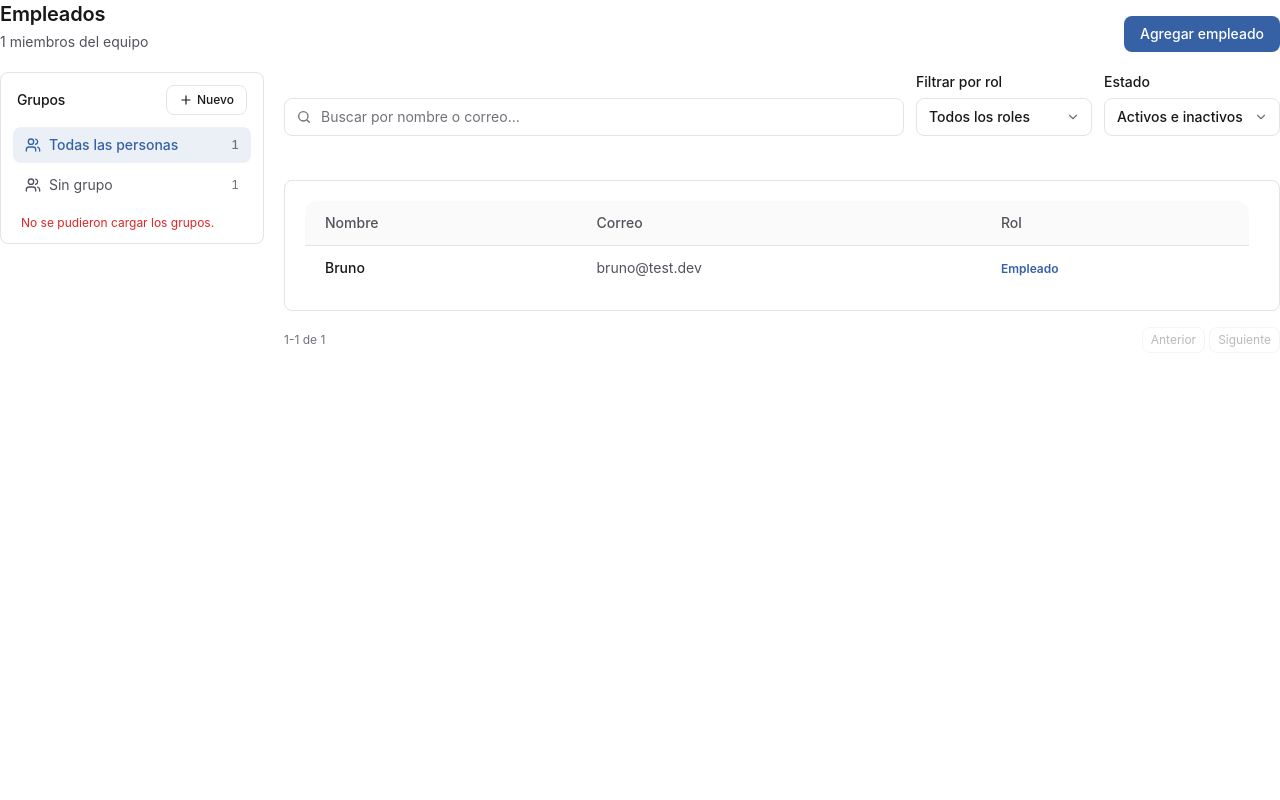
Employees — assigning a whole folder from the record › sends folder_id to POST /enrollments and reports created vs already-had-it
Click the text "Bruno".
click(345, 268)  # box [325,259,365,276]
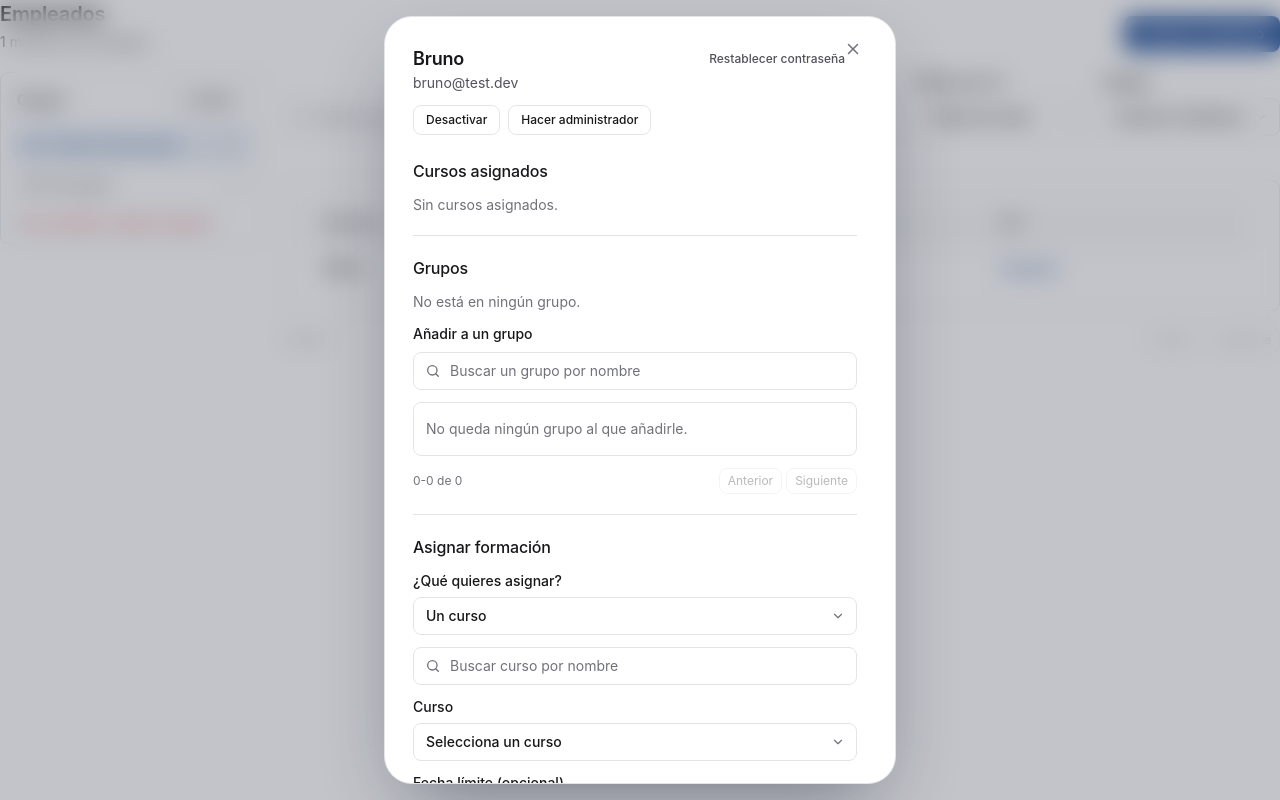
Select "Una carpeta completa" in the dropdown labelled "¿Qué quieres asignar?" at (635, 616), box [413,597,857,635]
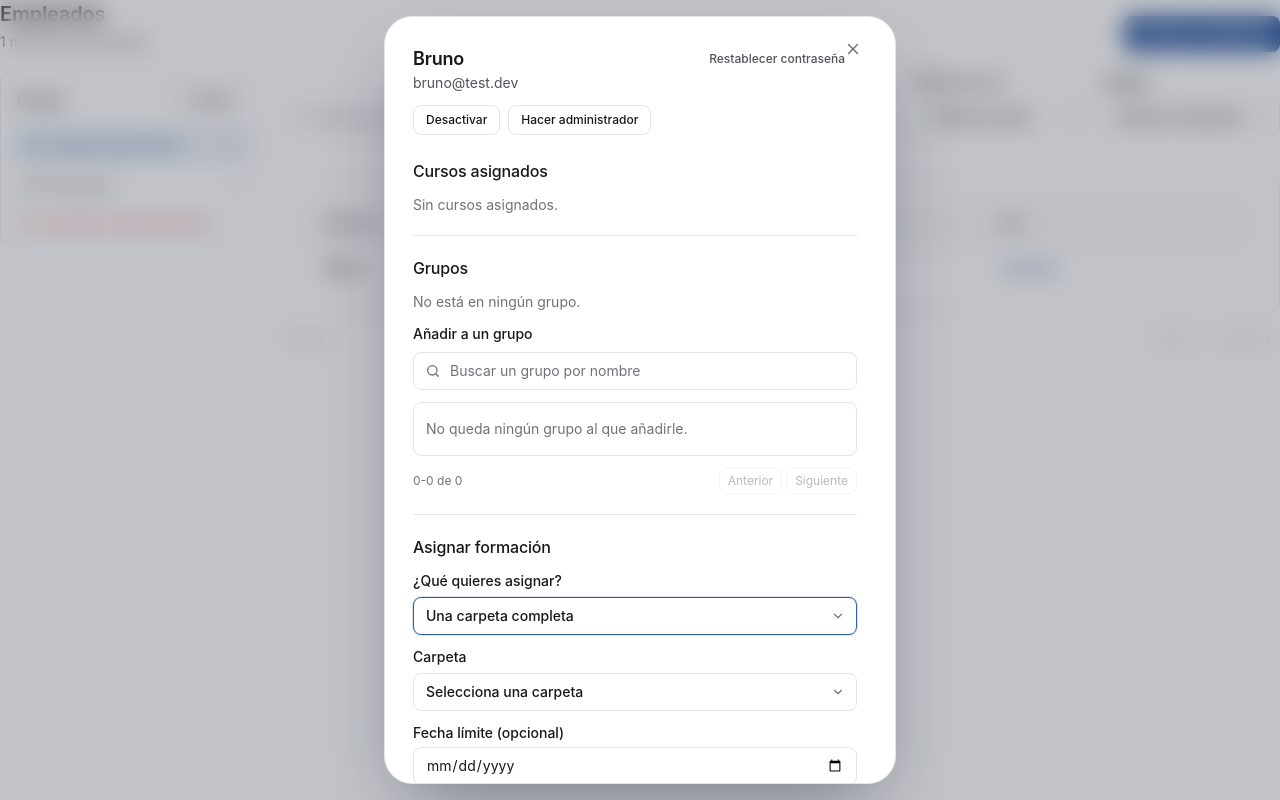
Select "Onboarding" in the dropdown labelled "Carpeta" at (635, 692), box [413,673,857,711]
(page scrolled)
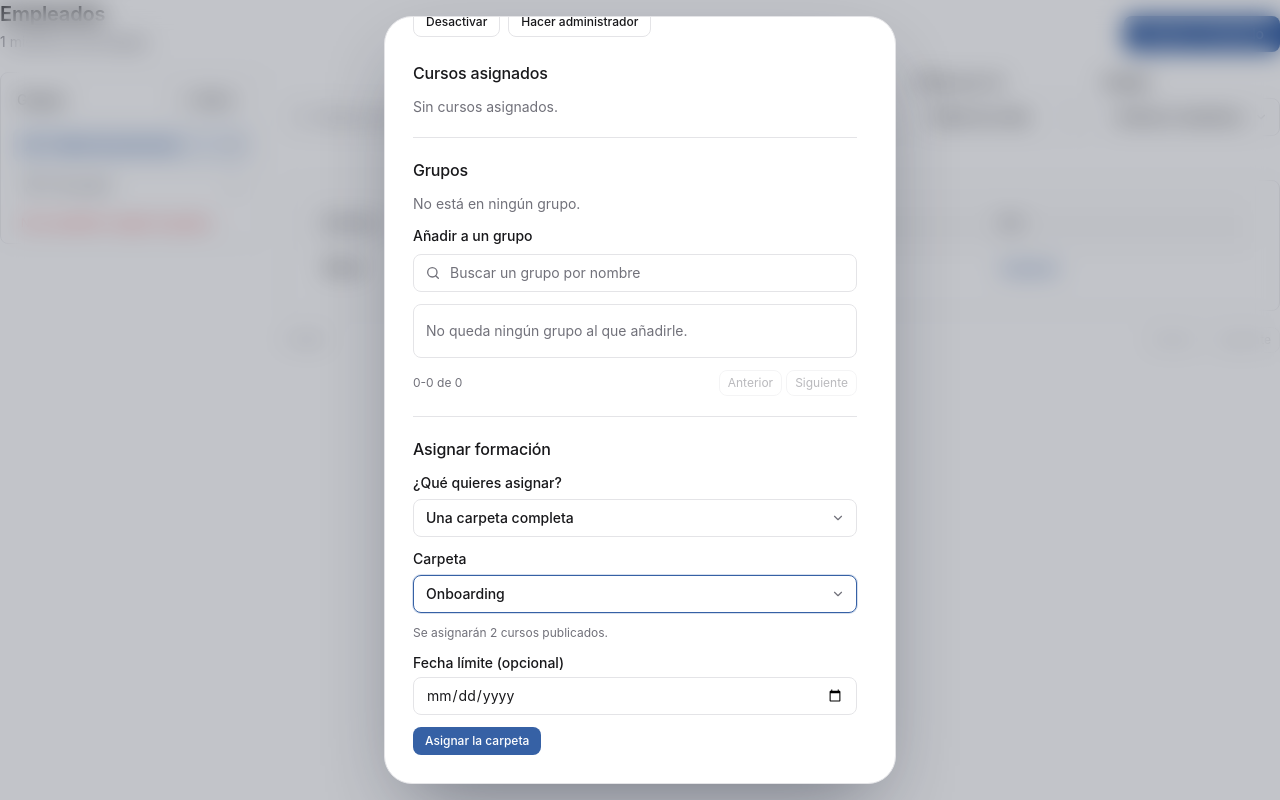
Now the text "Se asignarán 2 cursos publicados." is shown, box [413,625,608,640]
Click the button "Asignar la carpeta".
click(477, 741)  # box [413,727,541,755]
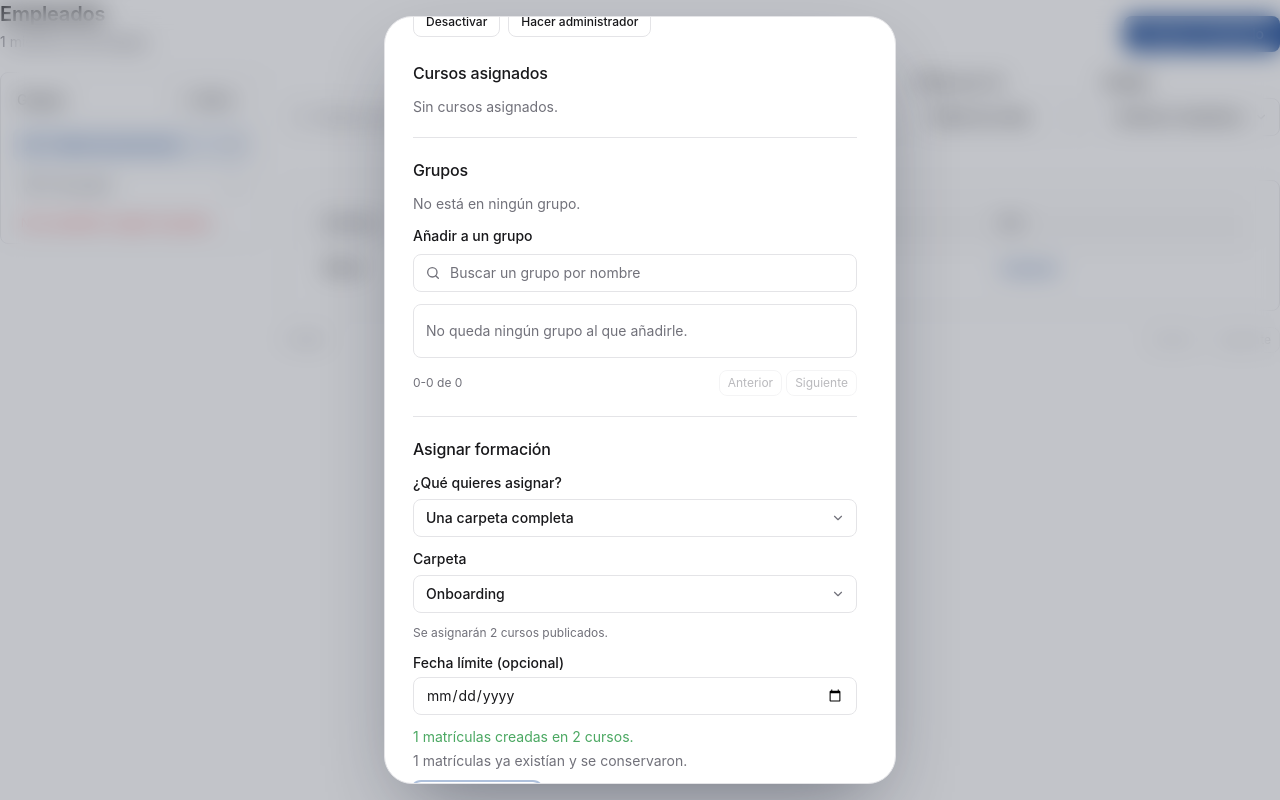
Now the text "1 matrículas creadas en 2 cursos." is shown, box [413,728,634,745]
Now the text "1 matrículas ya existían y se conservaron." is shown, box [413,752,687,769]
